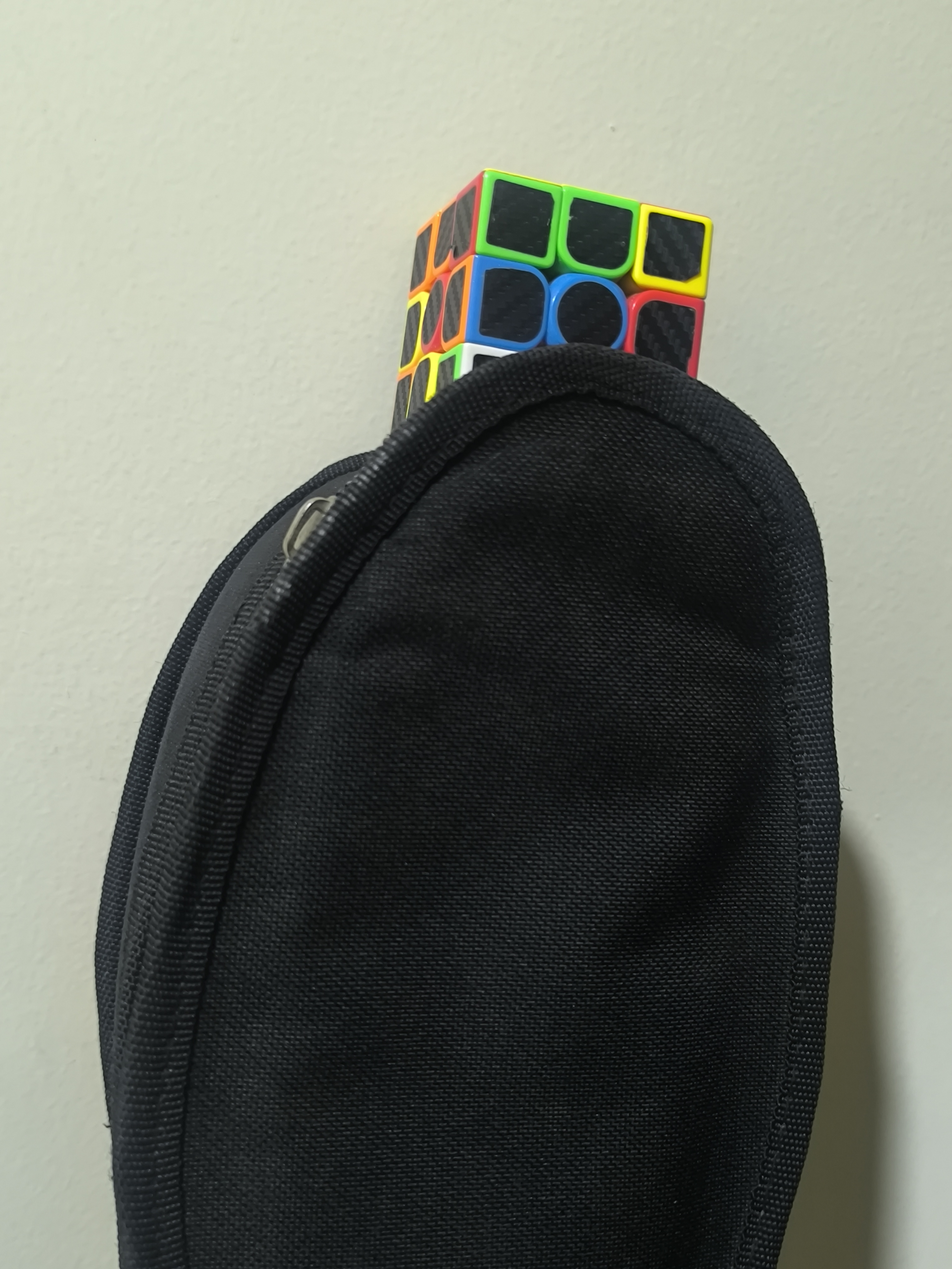cube_rubik: (393, 170, 711, 427)
